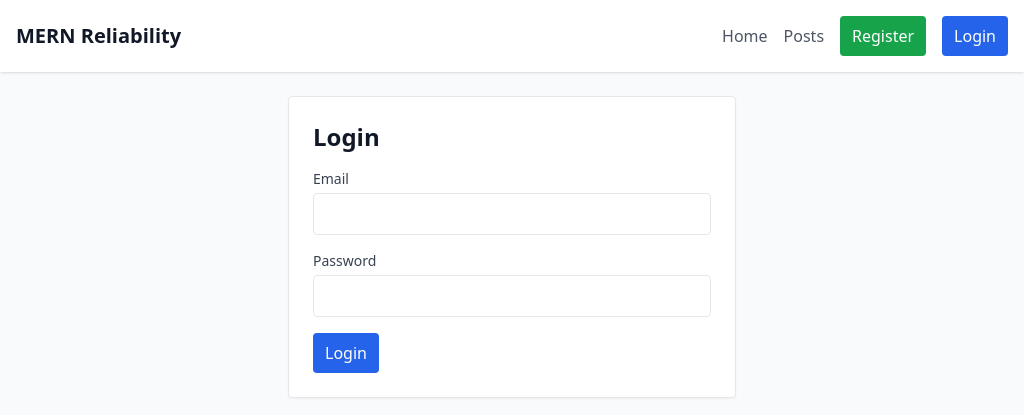
Test: Authentication flow › allows a user to login and reach the dashboard
Type "user@example.com" into the field named "email" at (512, 214), box [313, 193, 711, 235]
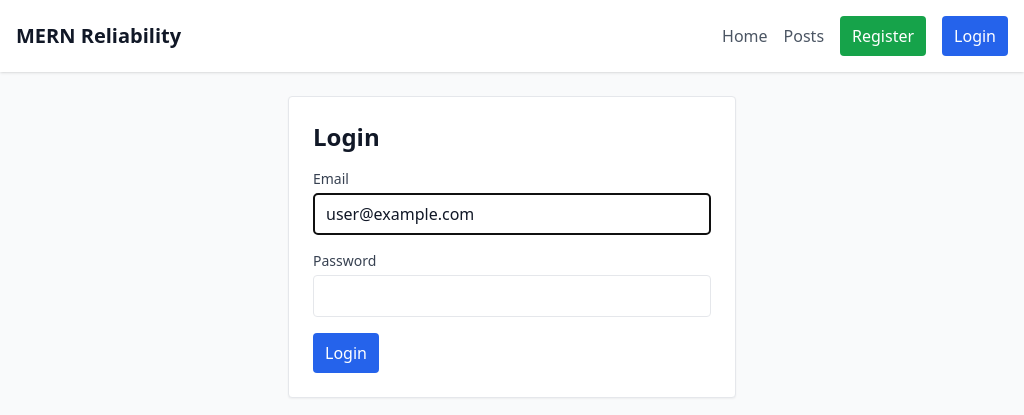
Type "Password1" into the password field named "password" at (512, 296), box [313, 275, 711, 317]
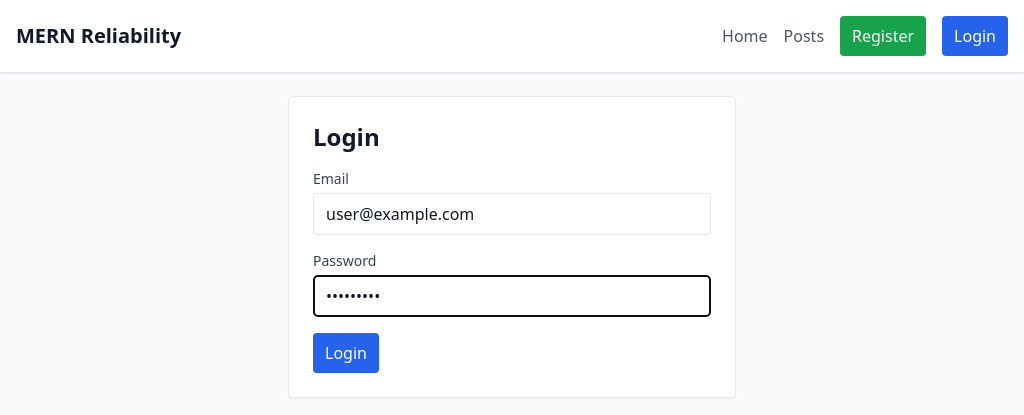
Click the button "Login" at (346, 353), box [313, 333, 379, 373]
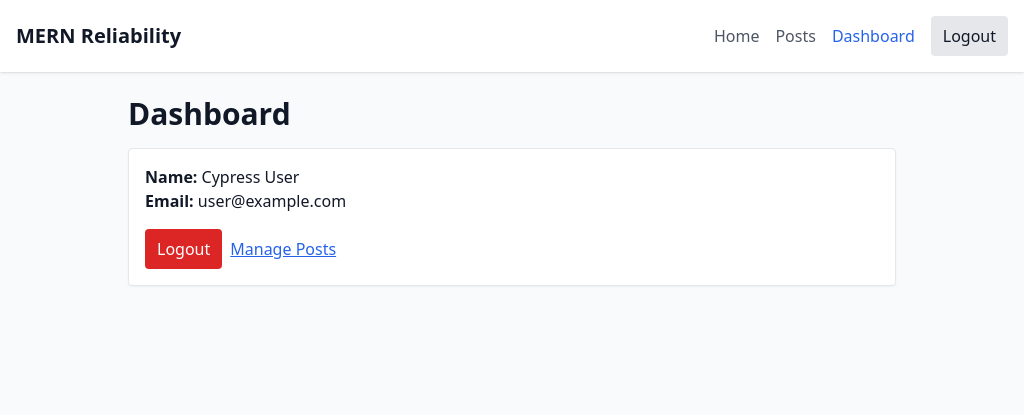
Check: the text "Name: Cypress User" is shown, box [145, 166, 300, 188]
